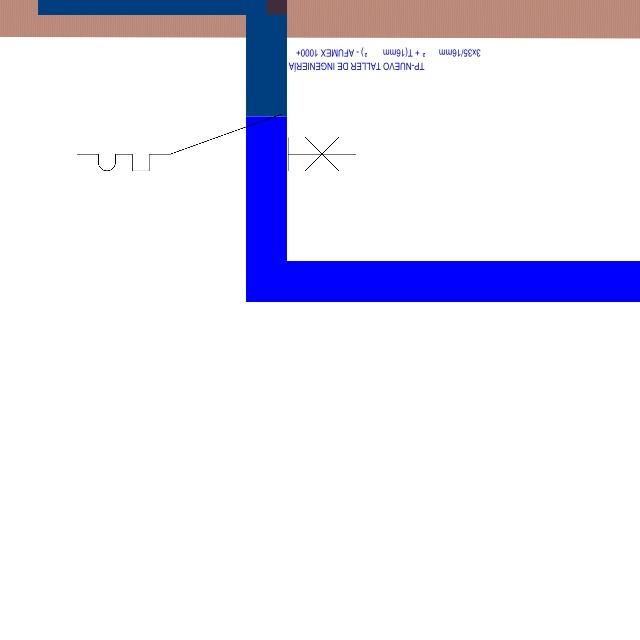interruptor_termomagnetico: (70, 107, 363, 178)
